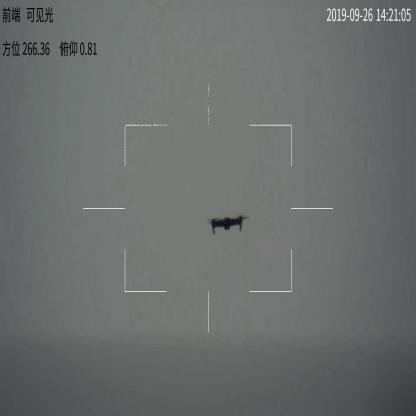uav: (206, 209, 247, 235)
